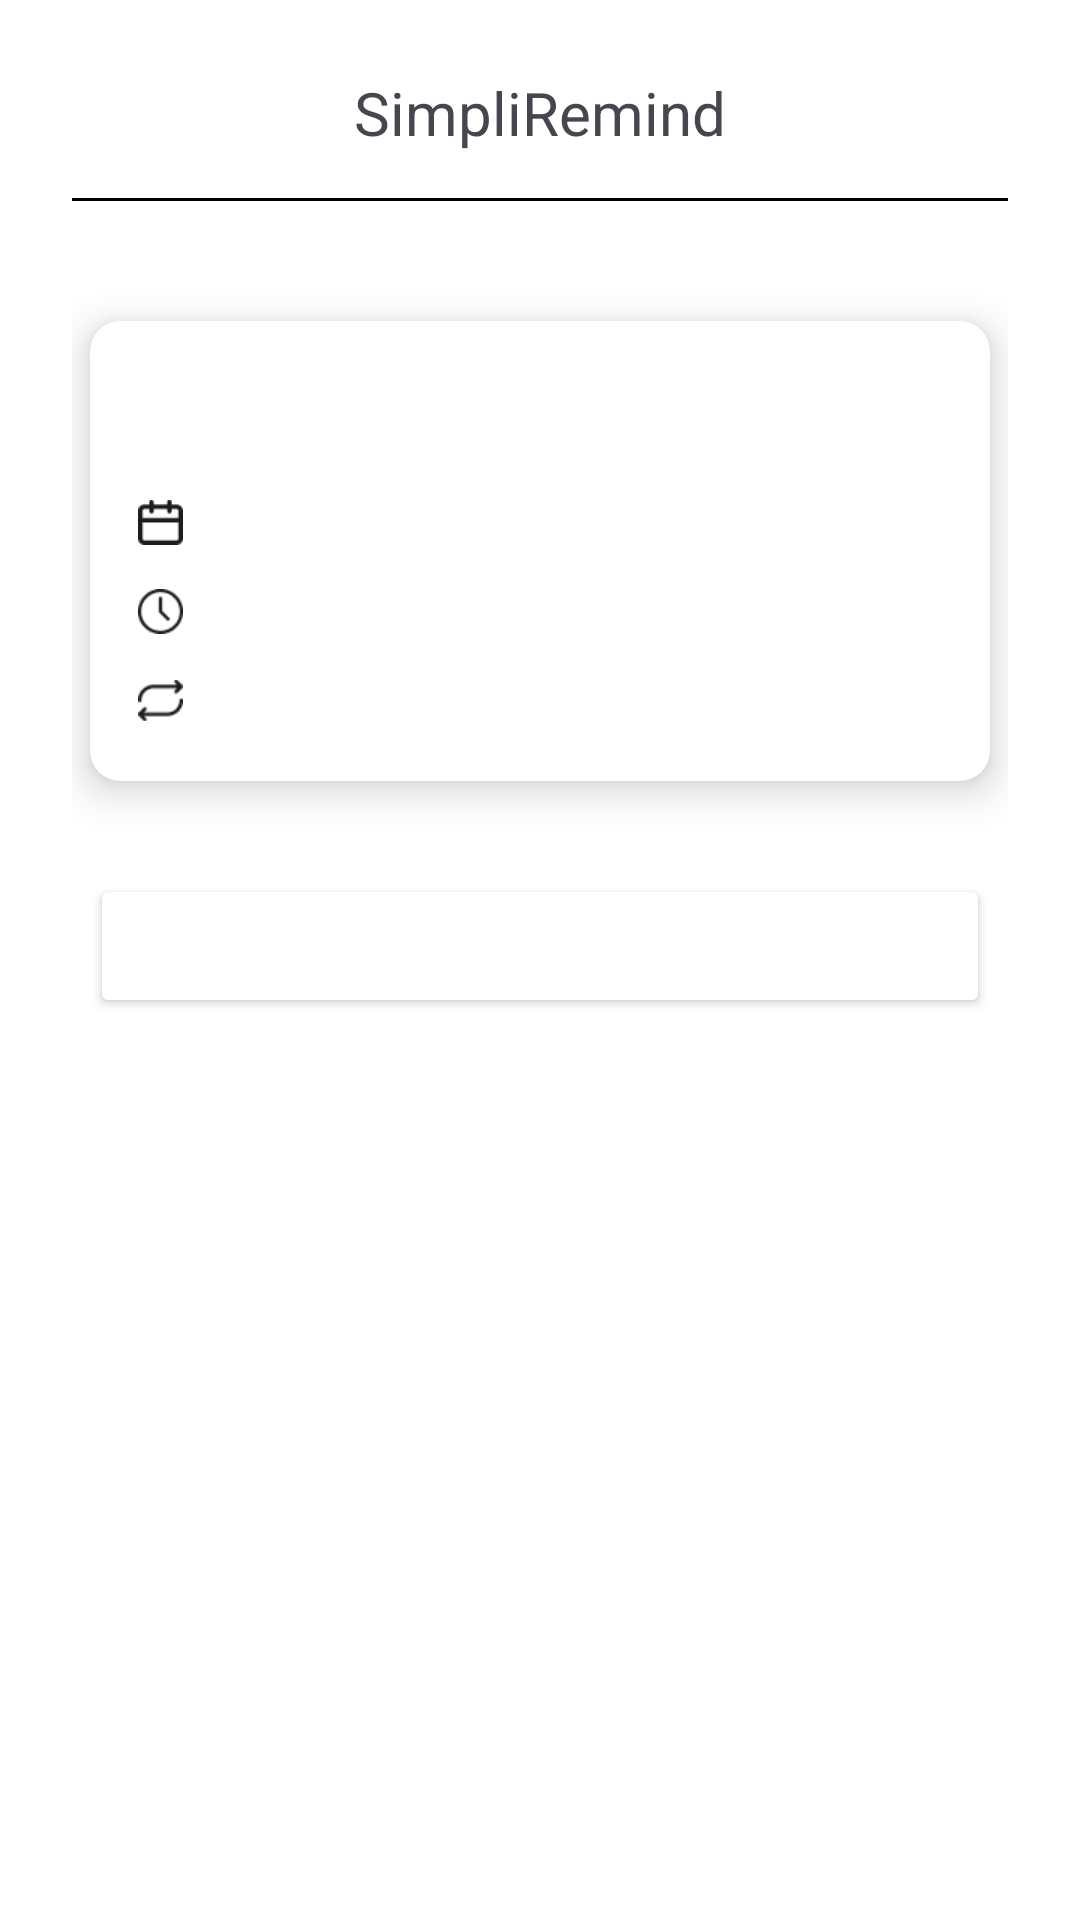

Where icons sit on this 1080 x 1920 app screen, as (x1, y1, x2, y2):
calendar: (138, 500, 183, 545)
clock: (138, 589, 183, 634)
repeat: (138, 680, 183, 721)
